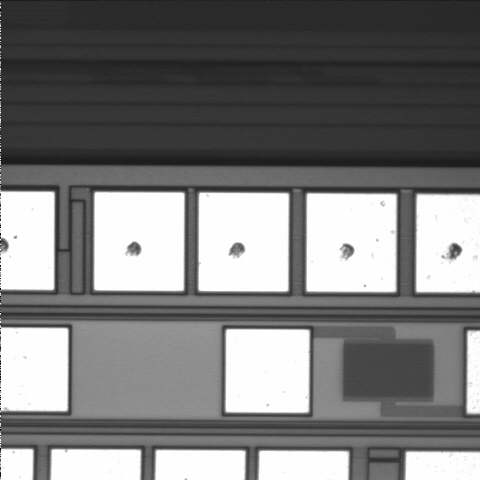pad: (94, 192, 184, 291), (199, 193, 289, 291), (307, 194, 396, 292), (226, 329, 309, 413)
